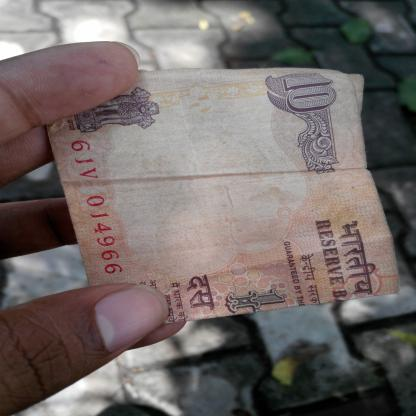Old10Front: (45, 66, 403, 326)
